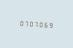nine: (47, 20, 51, 29)
seven: (32, 19, 36, 28), (22, 19, 26, 27)
six: (42, 20, 46, 28)
zero: (17, 18, 21, 26), (27, 19, 31, 27), (37, 20, 41, 28)
